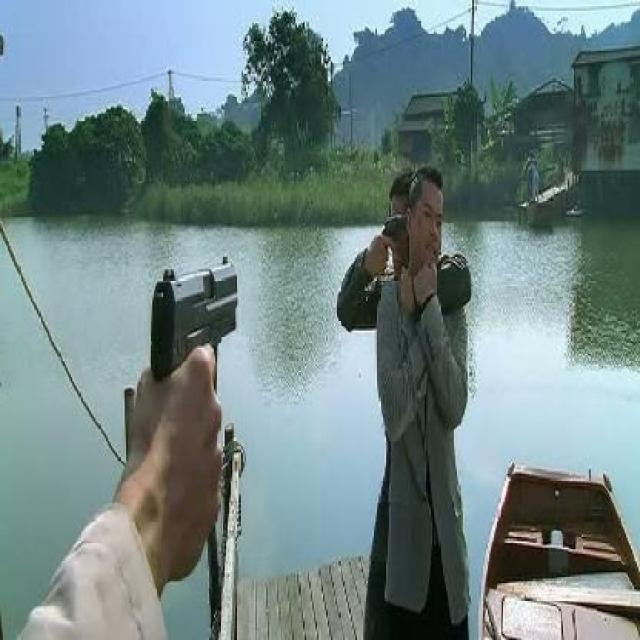gun: (138, 223, 248, 374), (374, 188, 410, 261)
